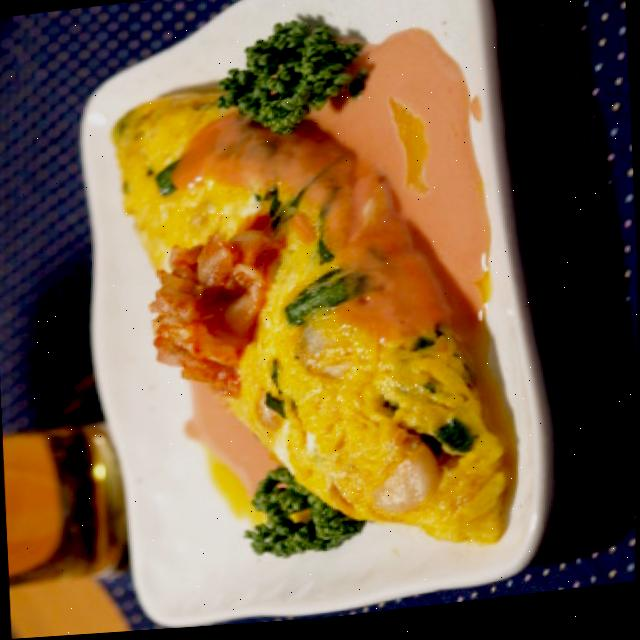鸡蛋料理: (81, 49, 539, 621)
